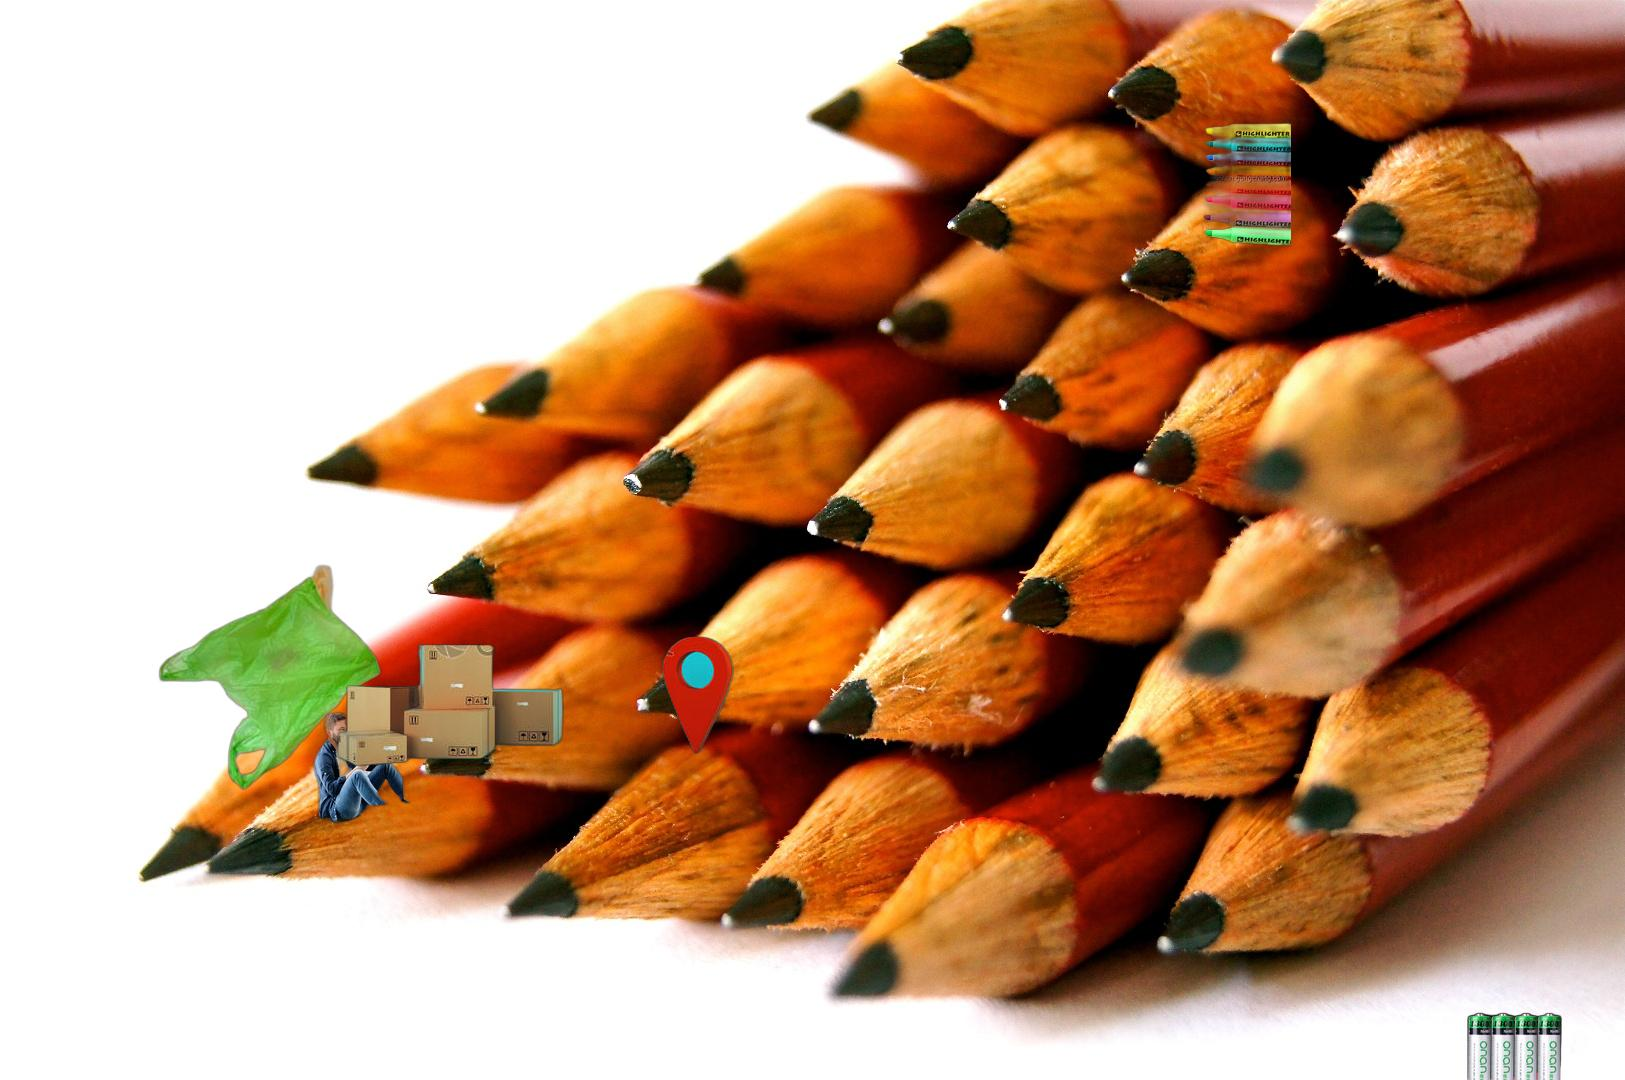battery: (1465, 1010, 1591, 1080)
penholder: (1158, 118, 1291, 251)
plastic-bag: (156, 563, 385, 791)
trashbox-cardboard: (333, 634, 737, 768), (307, 708, 591, 887)
